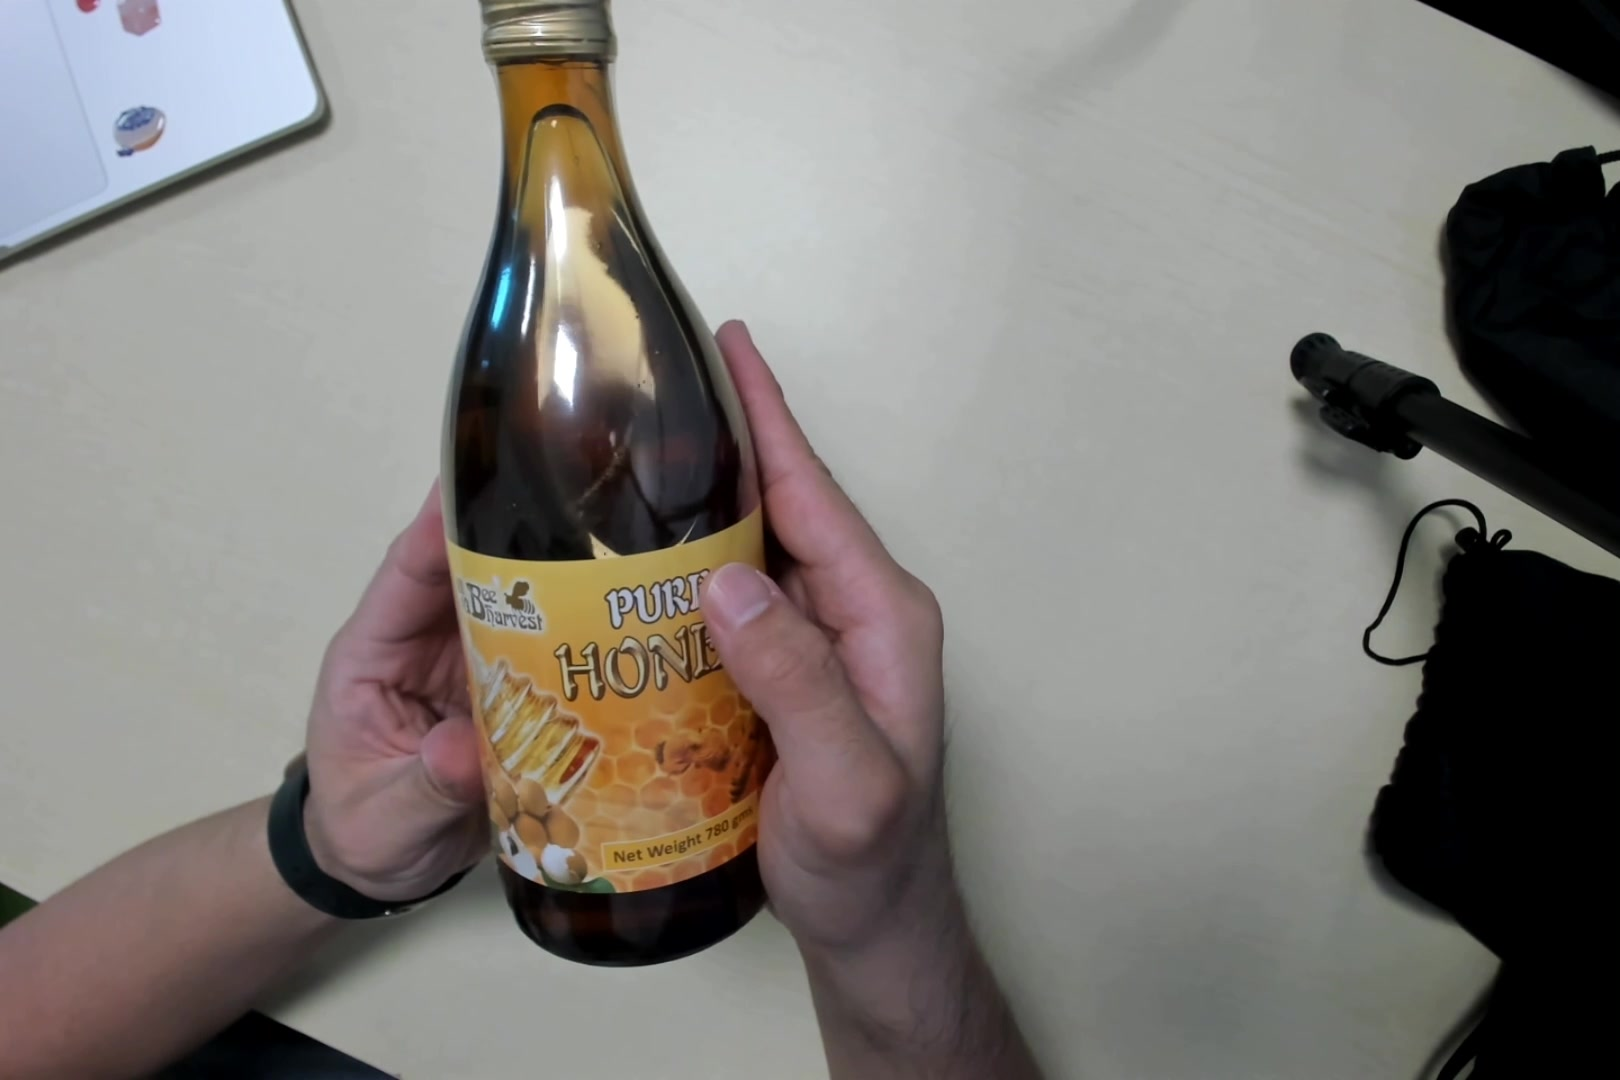OtherBakingNeeds_700-799g_Halal_NonHealthy: (436, 1, 782, 981)
